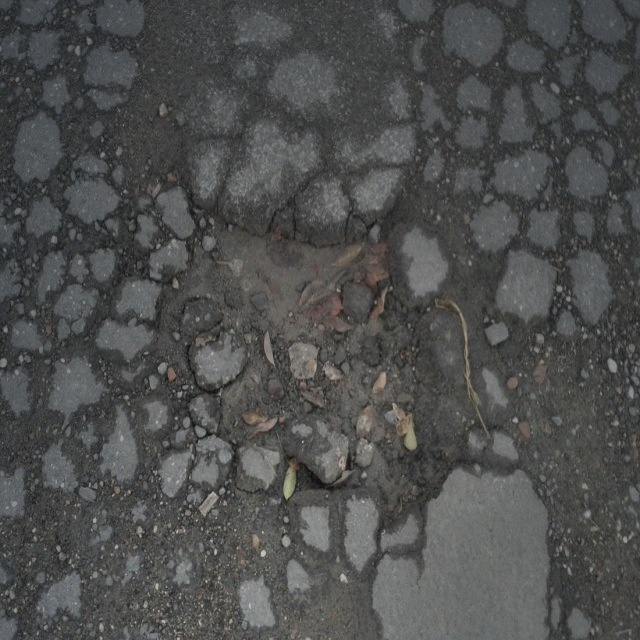pothole: (190, 202, 453, 508)
